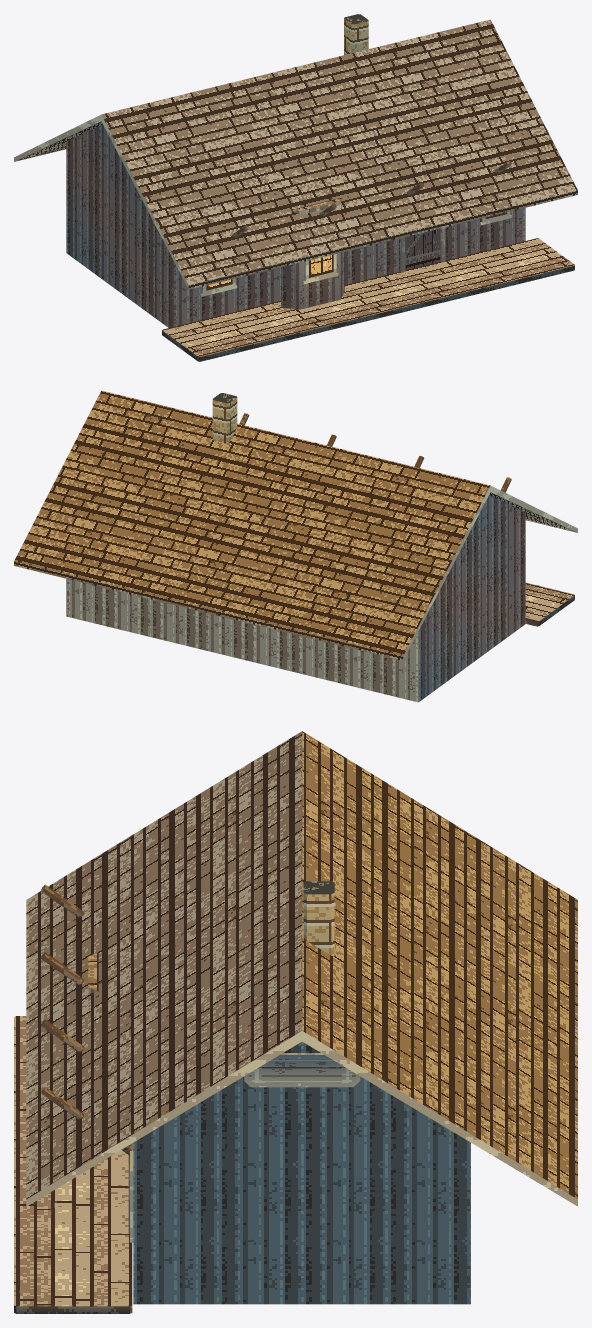
File: wrail.station.glb
3 views of the same model, one above another, from view 1: azimuth 30°, elevation 25°; view 2: azimuth 150°, elevation 25°; view 3: azimuth 270°, elevation 25° (orthographic). The views are drawn at different scales.
Visible parts, largest first — view 1: kit_roof, kit_body, kit_deck, kit_bay, kit_card_panes, kit_chimney, kit_windows; view 2: kit_roof, kit_body, kit_deck, kit_chimney; view 3: kit_roof, kit_body, kit_deck, kit_card_panes, kit_chimney, kit_braces, kit_trim.
Boxes of the visible parts, box(x1,y1,x2,y2) form: kit_roof: box(14, 19, 577, 289); kit_body: box(66, 125, 525, 327); kit_deck: box(162, 238, 574, 361); kit_bay: box(281, 197, 344, 309); kit_card_panes: box(206, 212, 507, 290); kit_chimney: box(344, 14, 368, 54); kit_windows: box(200, 211, 511, 296); kit_roof: box(14, 390, 577, 660); kit_body: box(66, 496, 525, 702); kit_deck: box(525, 582, 574, 626); kit_chimney: box(212, 393, 237, 443); kit_roof: box(26, 731, 577, 1206); kit_body: box(133, 1041, 470, 1304); kit_deck: box(14, 1016, 132, 1313); kit_card_panes: box(248, 1059, 355, 1083); kit_chimney: box(303, 881, 334, 956); kit_braces: box(41, 884, 133, 1155); kit_trim: box(128, 1053, 360, 1234).
Bounding box in the file's own units: 12.6 × 6.5 × 10.02.
10 materials, 10 textured.
